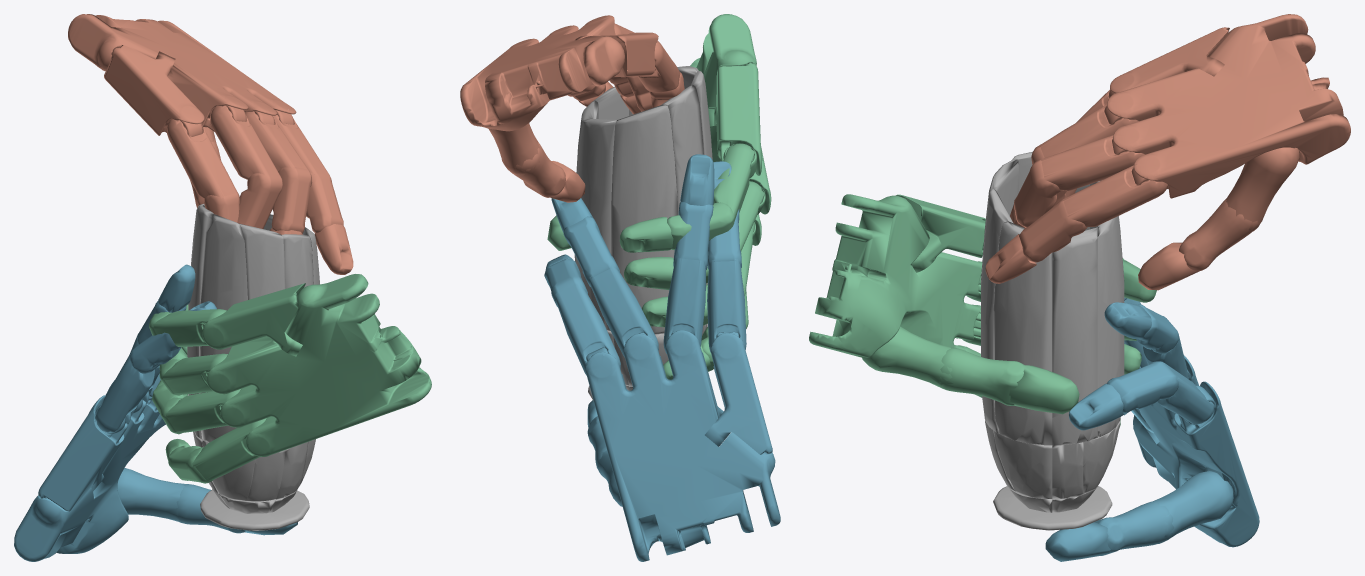
The picture shows the model from 3 angles, left to right: view 1: azimuth 30°, elevation 25°; view 2: azimuth 150°, elevation 25°; view 3: azimuth 270°, elevation 25°; orthographic projection. The views are drawn at different scales.
Size of the model in its own units: 0.1726 by 0.306 by 0.276.
